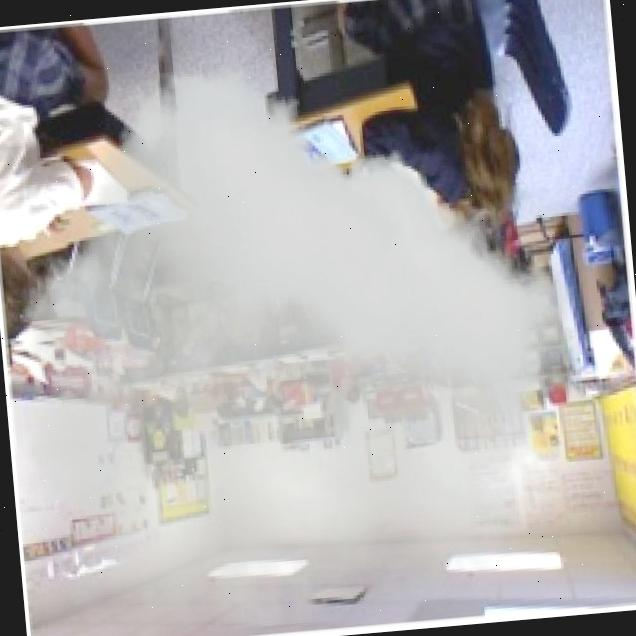smoke: (0, 39, 600, 636)
